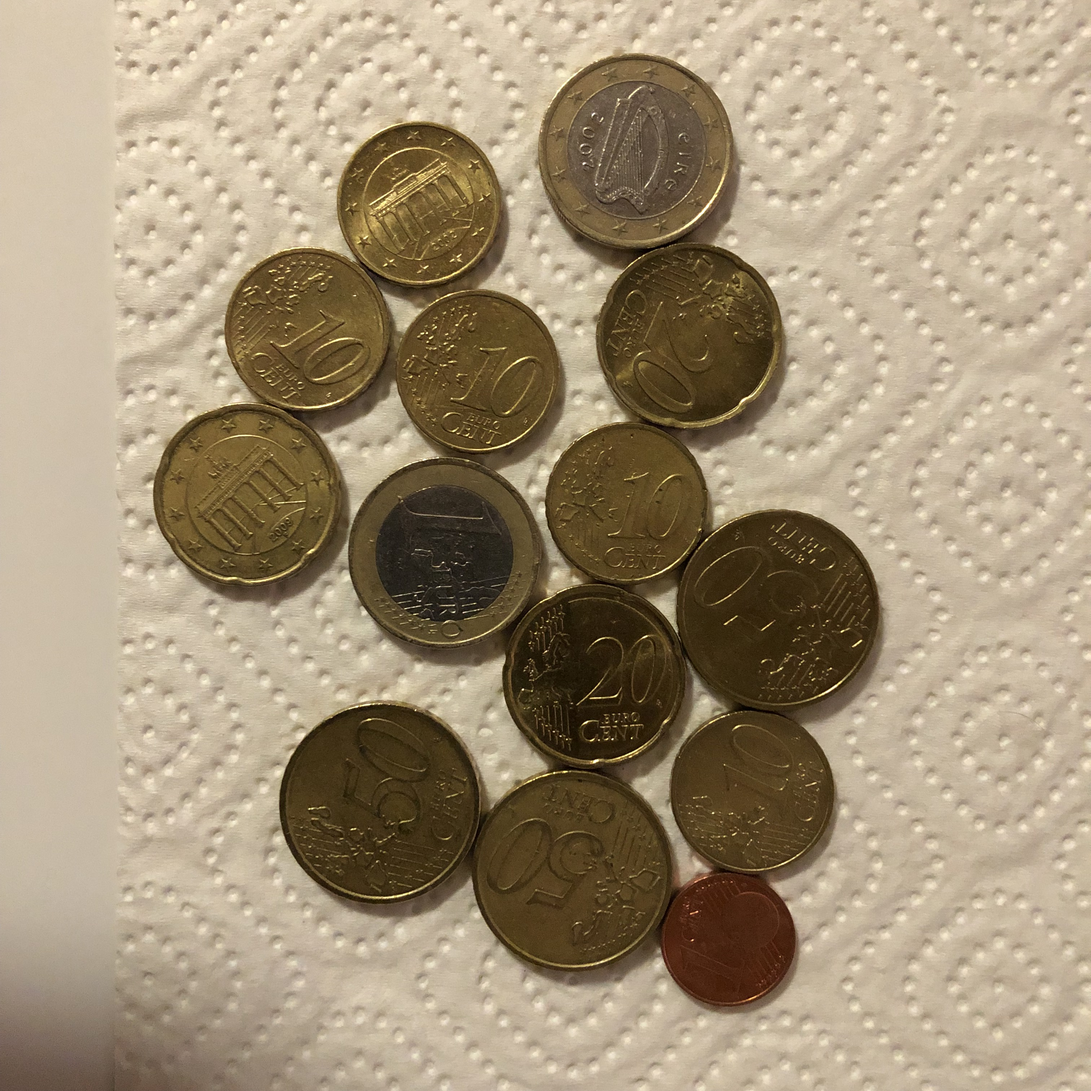1 cent: (657, 869, 797, 1005)
1 euro: (535, 48, 736, 250), (344, 452, 545, 654)
10 cent: (336, 118, 508, 290), (222, 245, 395, 416), (390, 285, 562, 456), (544, 416, 716, 587), (666, 707, 838, 878)
20 cent: (278, 698, 490, 906), (468, 769, 673, 975), (677, 508, 882, 714), (149, 400, 344, 588), (593, 245, 788, 433), (504, 580, 684, 770)
